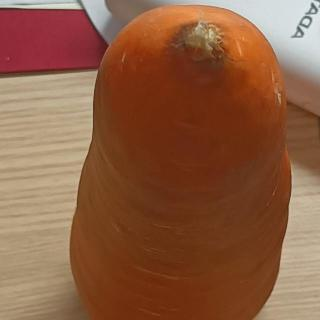carrot: (65, 0, 297, 320)
